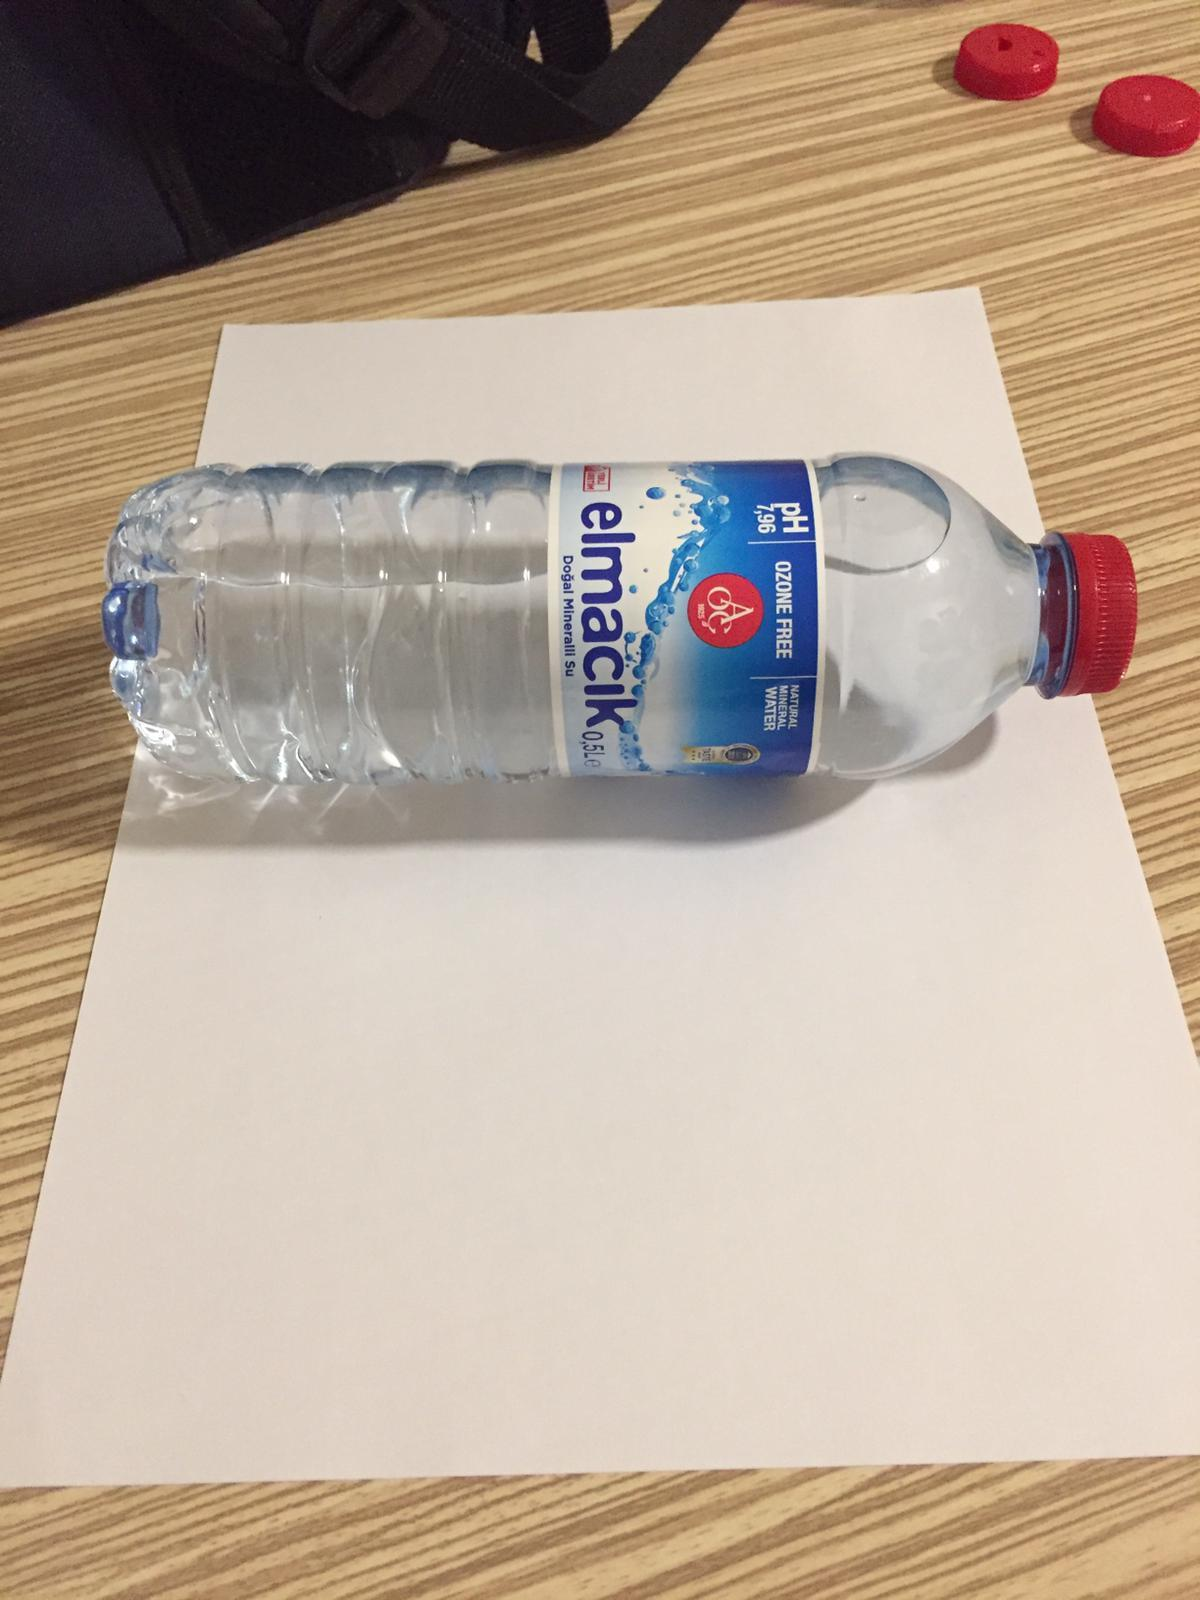bottle: (101, 451, 1146, 782)
